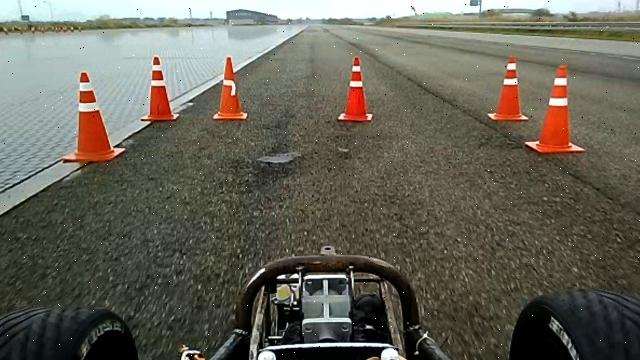red cone: (62, 70, 126, 164), (524, 64, 586, 154), (487, 54, 529, 122), (140, 54, 180, 122), (337, 55, 373, 122), (212, 55, 248, 120)
